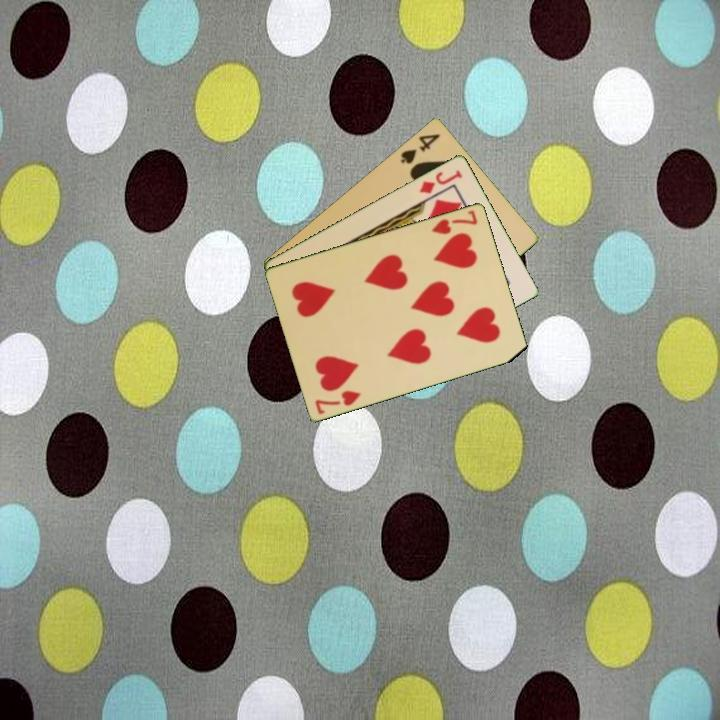4s: (397, 130, 443, 167)
7h: (311, 386, 364, 417), (428, 206, 480, 237)
Jd: (416, 166, 465, 196)
